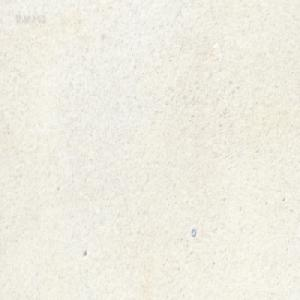Washer: (191, 227, 196, 237)
